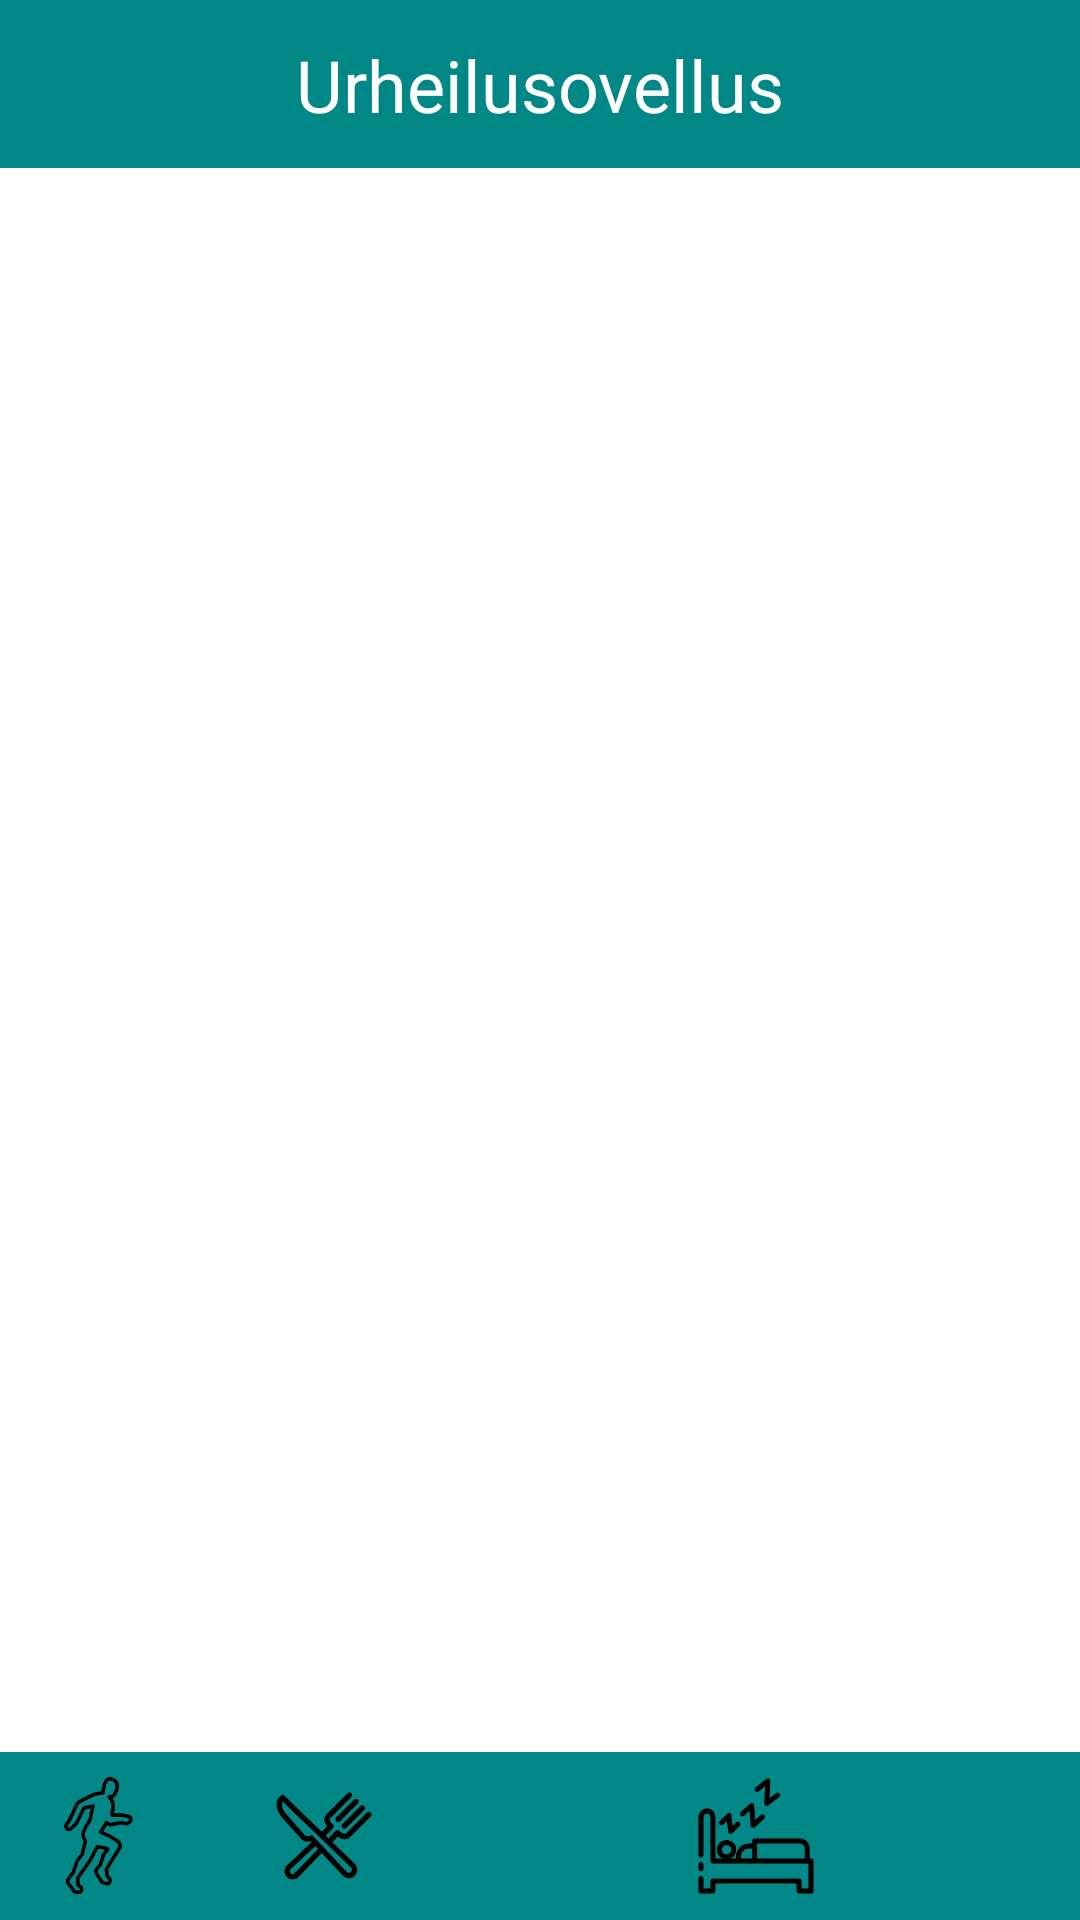

Screen size 1080w x 1920h. Icon name, then its center in pixels as (x=x, y=y):
bed: (x=756, y=1836)
eating: (x=324, y=1836)
training: (x=98, y=1835)
